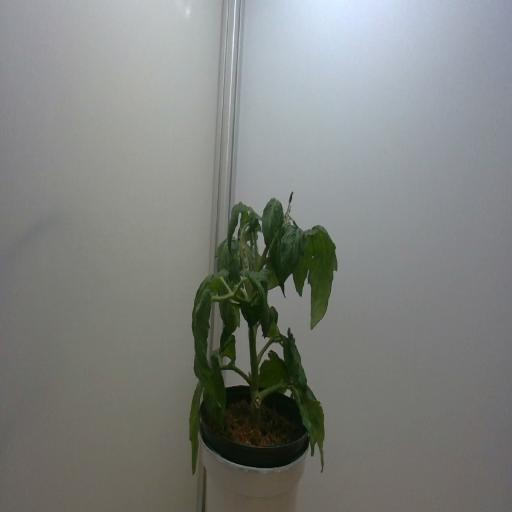Tomato-Leaves-Cupboard-: (287, 374, 334, 476), (306, 223, 341, 338), (188, 284, 218, 381), (202, 353, 228, 433), (276, 220, 306, 287), (216, 275, 246, 337), (259, 350, 295, 401), (290, 231, 316, 301), (282, 330, 309, 394), (187, 369, 202, 479), (247, 271, 270, 331), (261, 192, 283, 252), (193, 264, 230, 296), (224, 198, 244, 250), (222, 332, 242, 369), (263, 301, 281, 338), (245, 204, 261, 242), (215, 240, 236, 268)
